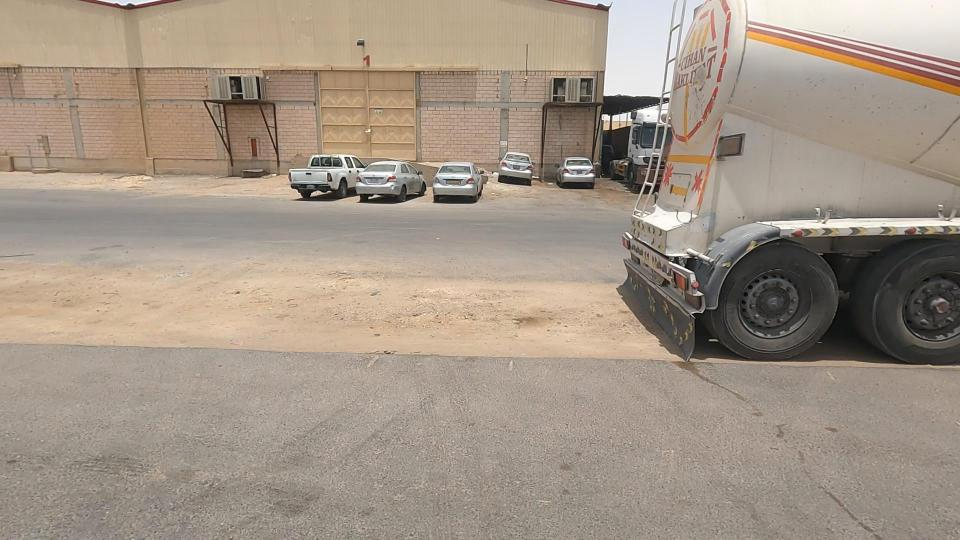CLUTTER_SIDEWALK: (124, 204, 732, 419), (0, 203, 309, 405)
